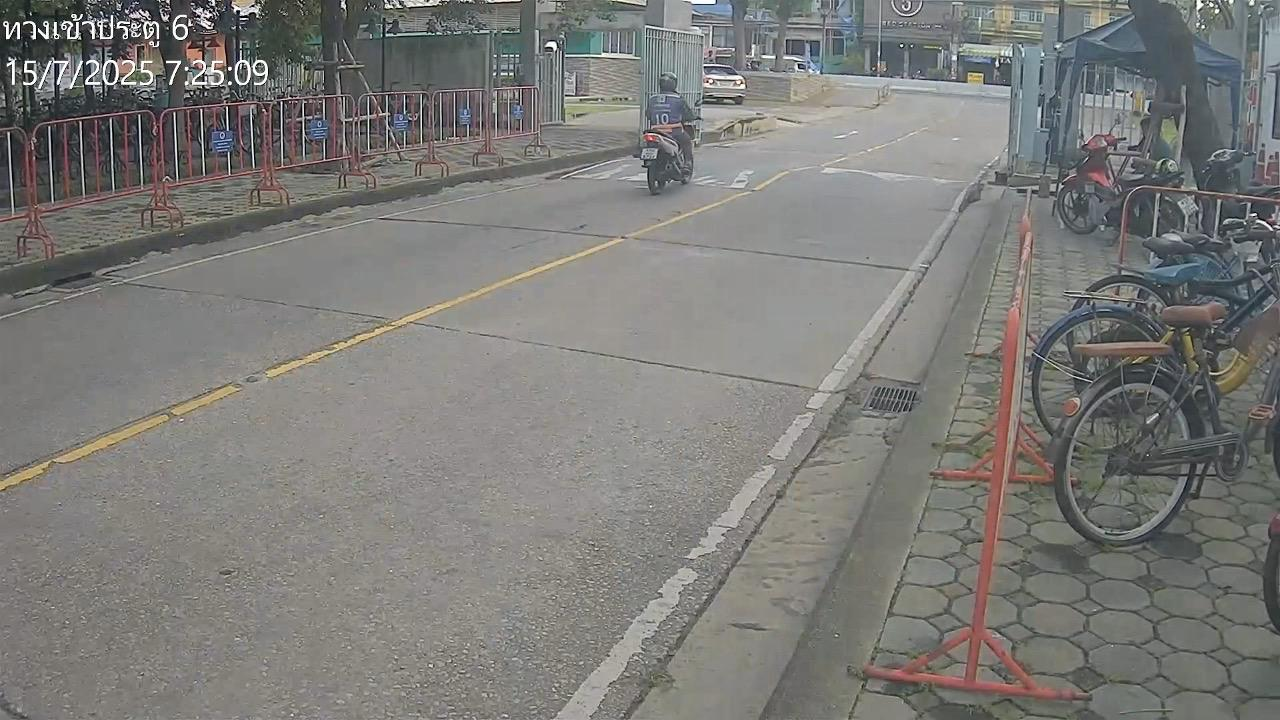With-Helmet: (658, 71, 679, 91)
